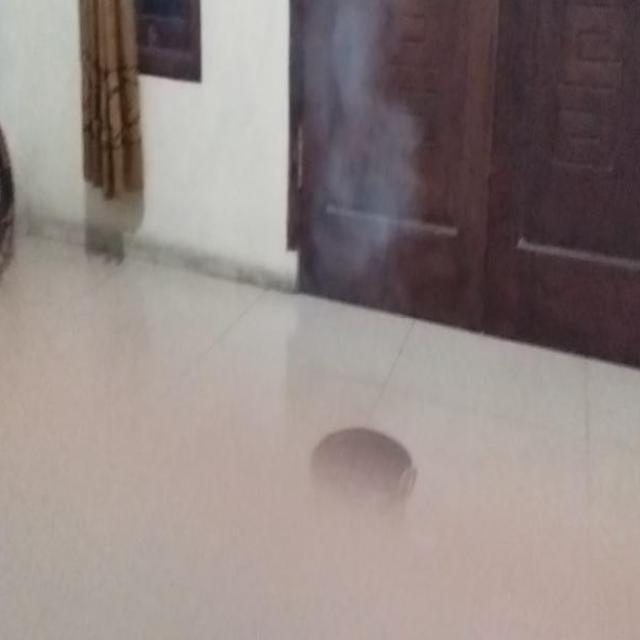fire: (306, 0, 414, 274)
